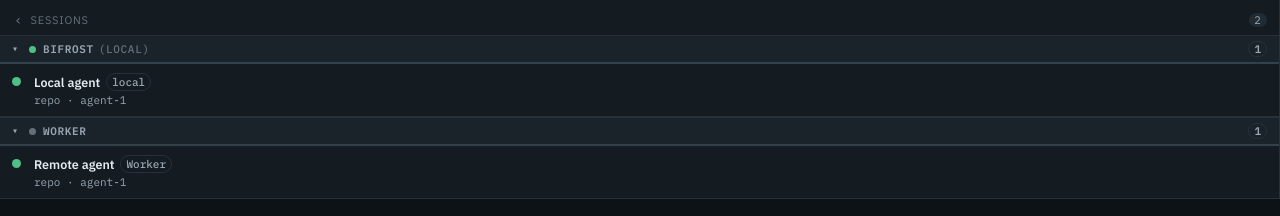
Test: SessionsRail host headers › labels the local host by hostname, counts sessions, and collapses on click
expect the text with class "session-host-name" reads "bifrost": met, box [43,42,94,56]
expect the text with class "session-host-local" reads "(local)": met, box [99,42,150,56]
Step 1. Click the text "Local agent" → click(93, 82), box [34,73,151,91]
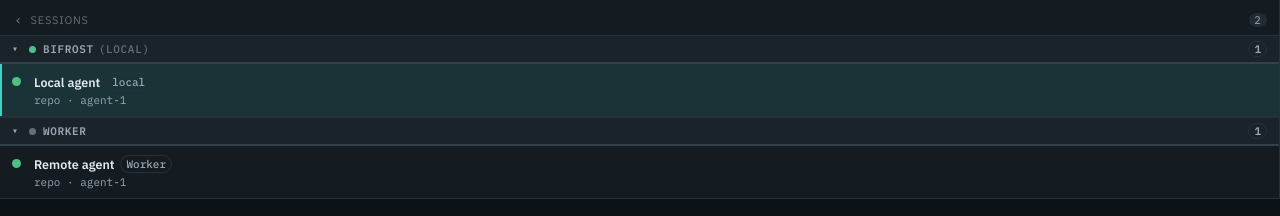
Step 2. Click the button with class "session-host-divider" showing "▾ bifrost (local) 1" → click(68, 49), box [0,35,1279,64]
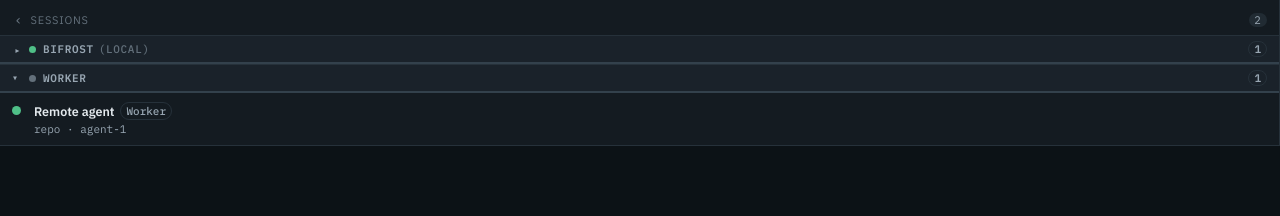
expect the text "Remote agent" is shown: met, box [34,103,114,119]
expect the text "Local agent" is gone: met
Step 3. Click the button with class "session-host-divider" showing "▾ Worker 1" → click(65, 78), box [0,64,1279,93]
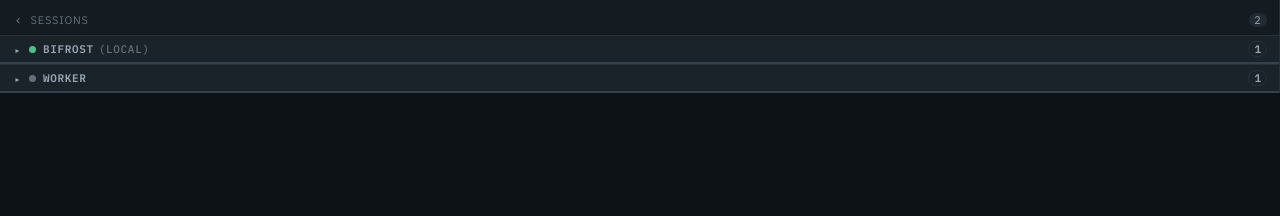
expect the text "Remote agent" is gone: met
Step 4. Click the button with class "session-host-divider" showing "▾ Worker 1" → click(65, 78), box [0,64,1279,93]
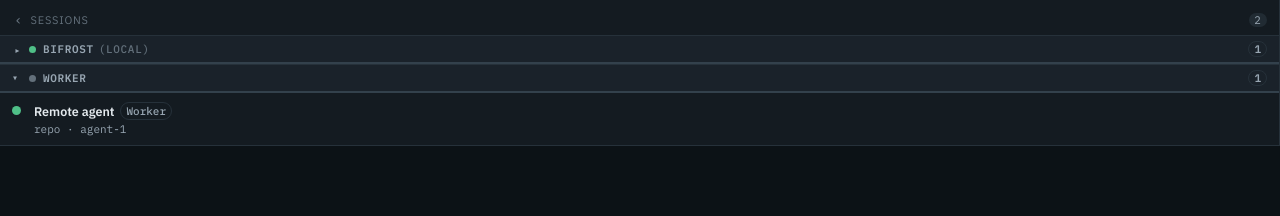
expect the text "Remote agent" is shown: met, box [34,103,114,119]
